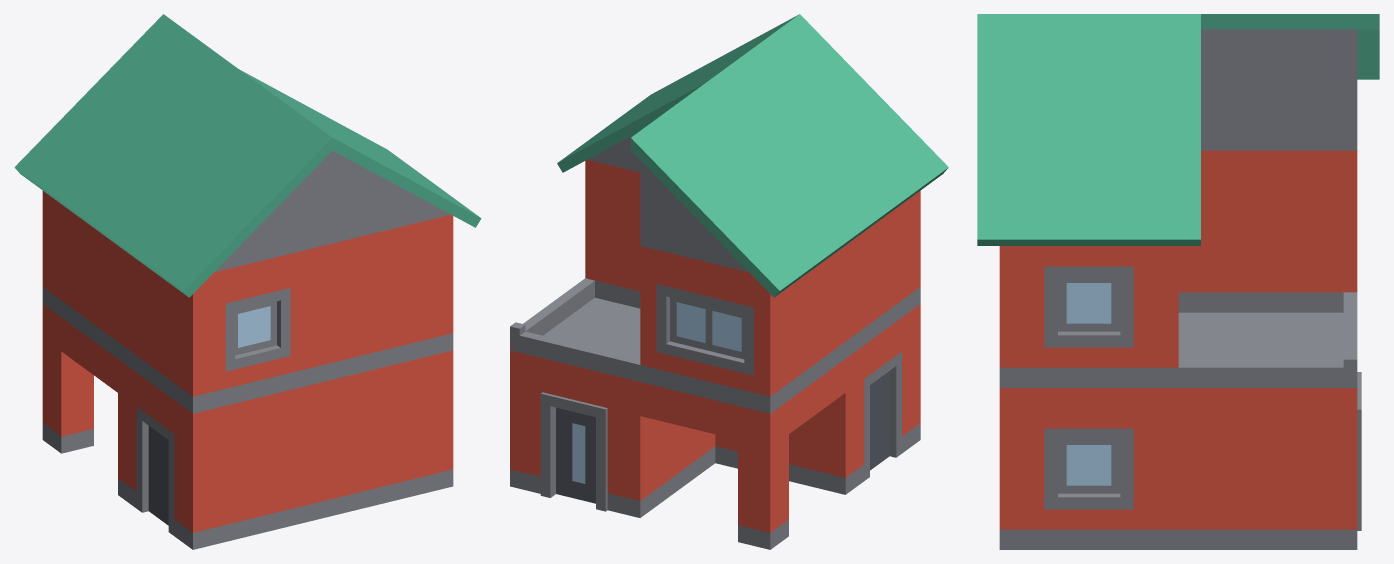
Rendered from house_type16.dae.
The picture shows the model from 3 angles, left to right: view 1: azimuth 30°, elevation 25°; view 2: azimuth 150°, elevation 25°; view 3: azimuth 270°, elevation 25°; orthographic projection. The views are drawn at different scales.
Visible parts, largest first — view 1: house_type16; view 2: house_type16; view 3: house_type16.
Part boxes in pixels (x1=…): house_type16: x1=14, y1=14, x2=481, y2=549; house_type16: x1=510, y1=14, x2=948, y2=549; house_type16: x1=977, y1=14, x2=1379, y2=549.
Size of the model in its own units: 0.916 by 1.14 by 0.9.
